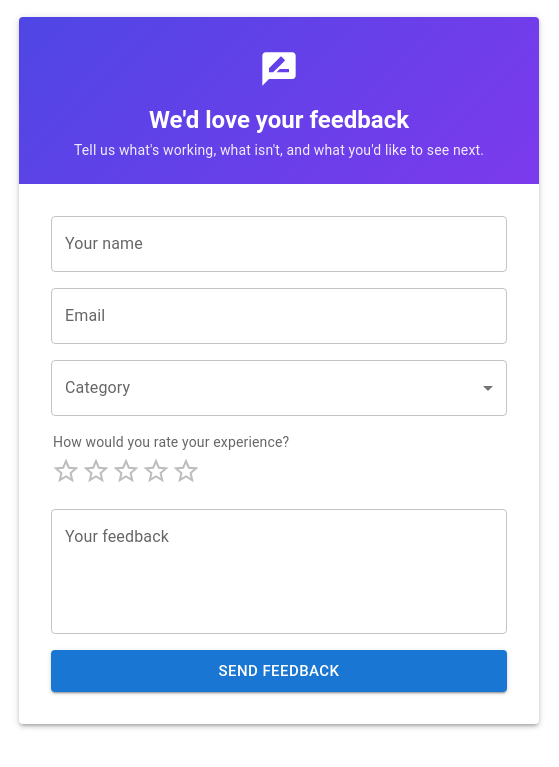
FeedbackPage › blocks submission and shows inline errors when required fields are missing
Step 1. Click the button "Send feedback" → (279, 671), box [51, 650, 507, 692]
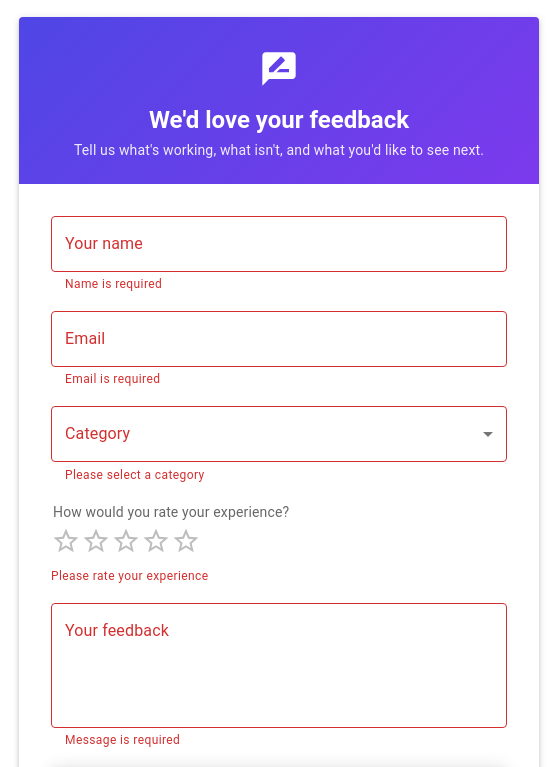
Check: the text "Name is required" is shown, box [65, 277, 162, 291]
Check: the text "Email is required" is shown, box [65, 372, 160, 386]
Check: the text "Please select a category" is shown, box [65, 468, 205, 482]
